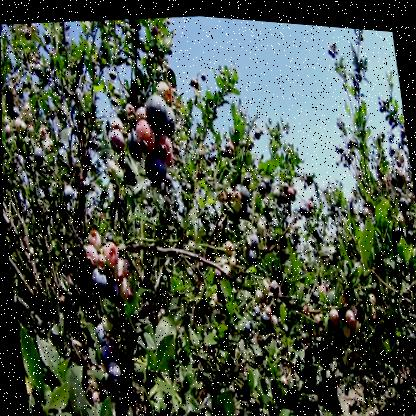intermediate: (134, 116, 158, 152), (155, 127, 174, 163), (156, 74, 174, 102), (109, 127, 124, 154), (103, 239, 117, 264), (117, 276, 130, 297), (88, 227, 101, 247), (86, 245, 98, 265), (111, 114, 124, 131), (343, 303, 354, 322), (328, 303, 339, 320), (136, 104, 148, 118), (112, 266, 122, 280), (3, 123, 12, 137), (288, 183, 294, 195)
mature: (146, 92, 171, 130), (145, 151, 168, 185), (92, 266, 107, 294), (107, 273, 120, 301), (165, 100, 176, 131), (106, 360, 121, 381), (397, 187, 409, 212), (95, 321, 106, 346), (239, 178, 250, 201), (99, 346, 114, 359), (34, 147, 45, 164), (244, 244, 255, 261), (263, 172, 273, 190), (256, 174, 266, 191), (42, 30, 52, 46), (213, 263, 224, 277), (271, 276, 280, 293), (249, 229, 259, 242), (36, 63, 44, 78), (253, 298, 261, 312), (312, 284, 319, 298)
young: (100, 309, 113, 335), (15, 116, 27, 135), (223, 235, 234, 251), (228, 253, 236, 268)
